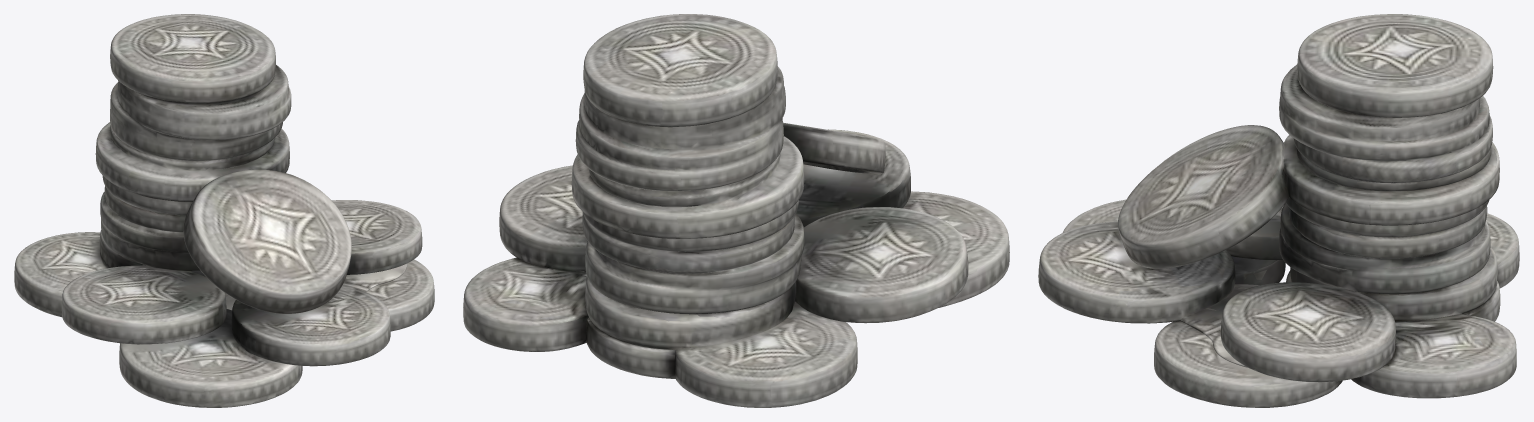
File: coin-silver.glb
3 renders of one model, left to right at view 1: azimuth 30°, elevation 25°; view 2: azimuth 150°, elevation 25°; view 3: azimuth 270°, elevation 25°, orthographic. The views are drawn at different scales.
Parts seen in each view (by area): view 1: node_0; view 2: node_0; view 3: node_0.
Part boxes in pixels (x1,y1,x2,y2): node_0: [14, 14, 434, 407]; node_0: [463, 14, 1009, 407]; node_0: [1038, 14, 1519, 407].
Bounding box in the file's own units: 0.8944 × 0.5743 × 0.9241.
Materials: 1 (1 with a texture image).
